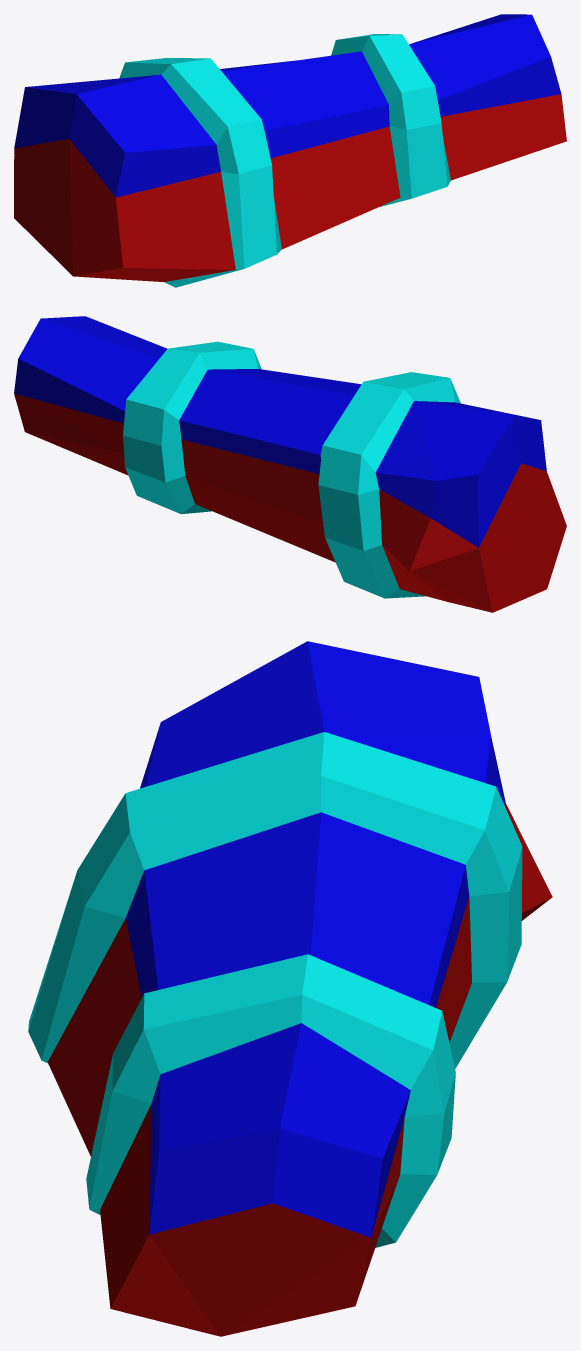
File: Chr_ArmLowerLeft_Male_Static_16.fbx
The picture shows the model from 3 angles, top to bottom: view 1: azimuth 30°, elevation 25°; view 2: azimuth 150°, elevation 25°; view 3: azimuth 270°, elevation 25°; orthographic projection. The views are drawn at different scales.
Visible parts, largest first — view 1: Chr_ArmLowerLeft_Male_16; view 2: Chr_ArmLowerLeft_Male_16; view 3: Chr_ArmLowerLeft_Male_16.
Boxes of the visible parts, x1,y1,x2,y2 form: Chr_ArmLowerLeft_Male_16: [14, 14, 566, 287]; Chr_ArmLowerLeft_Male_16: [14, 316, 566, 612]; Chr_ArmLowerLeft_Male_16: [28, 641, 552, 1336].
Bounding box in the file's own units: 28.96 × 11.77 × 13.73.
